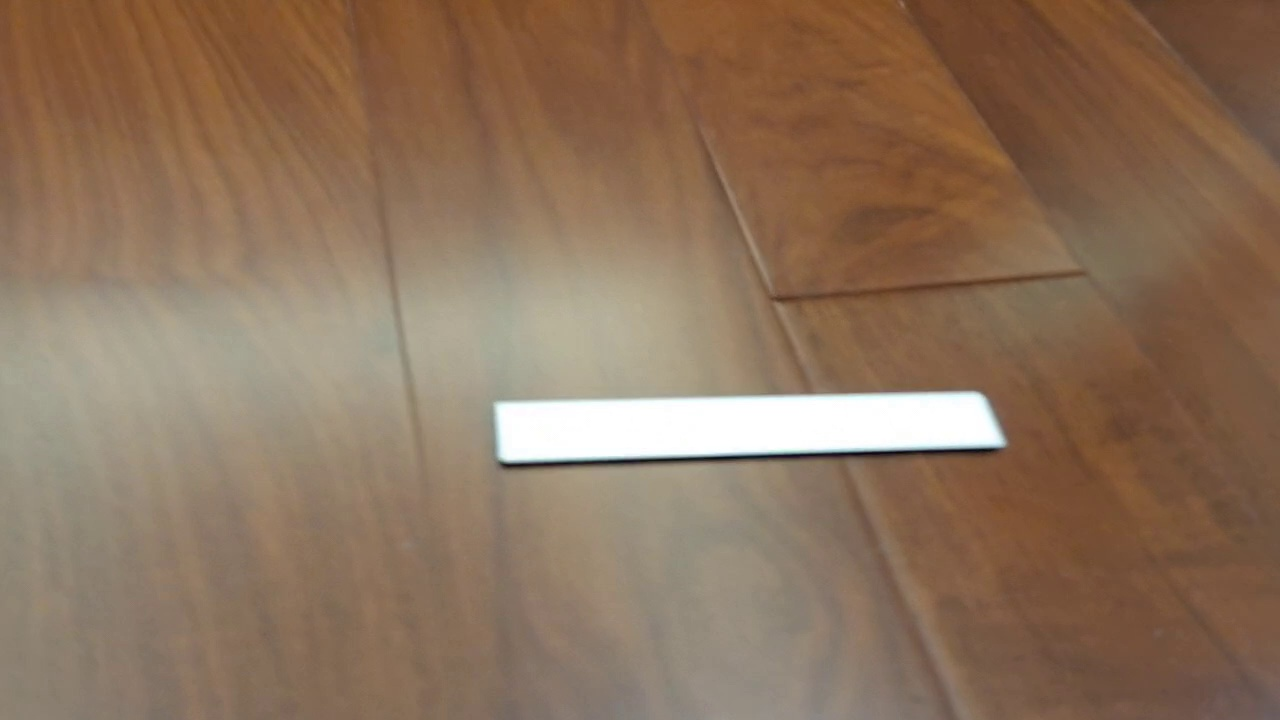ruler: (490, 389, 1009, 468)
